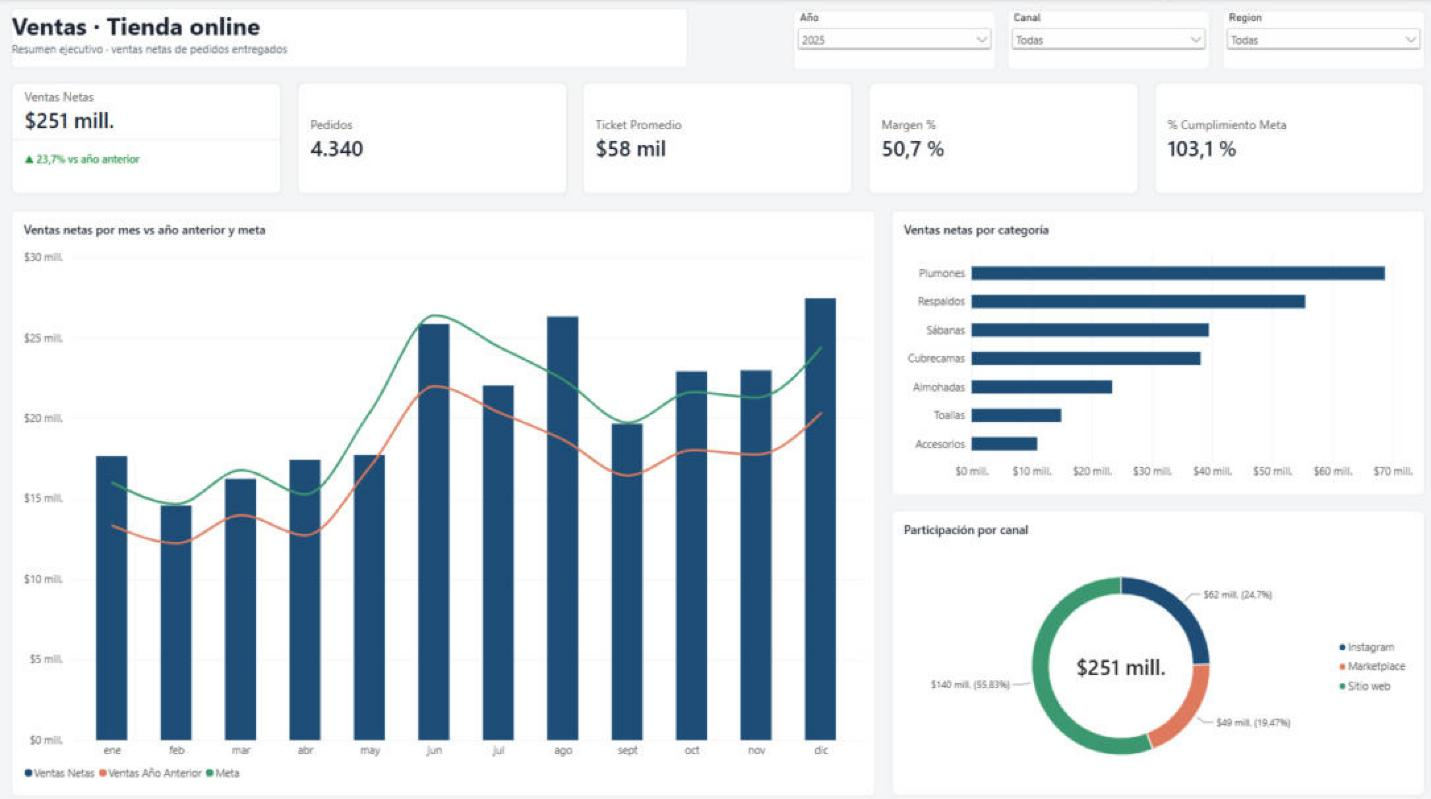

Layout of this report page (visuals, bound fields, positions):
{"tool":"powerbi","page":{"name":"Resumen","canvas":[1920,1080],"ordinal":0},"visuals":[{"type":"textbox","box":[20,12,900,80],"z":0},{"type":"slicer","fields":{"Values":["Calendario.Año"]},"box":[1060,15,270,80],"z":1000},{"type":"slicer","fields":{"Values":["Ventas.Canal"]},"box":[1345,15,270,80],"z":1001},{"type":"slicer","fields":{"Values":["Clientes.Region"]},"box":[1630,15,270,80],"z":1002},{"type":"cardVisual","fields":{"Data":["Medidas.Ventas Netas"]},"box":[20,110,360,150],"z":1003},{"type":"cardVisual","fields":{"Data":["Medidas.Pedidos (texto)"]},"box":[400,110,360,150],"z":1004},{"type":"cardVisual","fields":{"Data":["Medidas.Ticket Promedio"]},"box":[780,110,360,150],"z":1005},{"type":"cardVisual","fields":{"Data":["Medidas.Margen %"]},"box":[1160,110,360,150],"z":1006},{"type":"cardVisual","fields":{"Data":["Medidas.% Cumplimiento Meta"]},"box":[1540,110,360,150],"z":1007},{"type":"lineStackedColumnComboChart","title":"Ventas netas por mes vs año anterior y meta","fields":{"Category":["Calendario.Mes"],"Y":["Medidas.Ventas Netas"],"Y2":["Medidas.Ventas Año Anterior","Medidas.Meta"]},"box":[20,280,1150,780],"z":1008},{"type":"clusteredBarChart","title":"Ventas netas por categoría","fields":{"Category":["Productos.Categoria"],"Y":["Medidas.Ventas Netas"]},"box":[1190,280,710,380],"z":1009},{"type":"donutChart","title":"Participación por canal","fields":{"Category":["Ventas.Canal"],"Y":["Medidas.Ventas Netas"]},"box":[1190,680,710,380],"z":1010}]}

Visuals, with their boxes in screenshot pixels (x1, y1, x2, y2), scaled from the page's 1920x1080 canvas onto the 1431x799 screenshot:
textbox: bbox=(15, 9, 686, 68)
slicer - Calendario.Año: bbox=(790, 11, 991, 70)
slicer - Ventas.Canal: bbox=(1002, 11, 1204, 70)
slicer - Clientes.Region: bbox=(1215, 11, 1416, 70)
cardVisual - Medidas.Ventas Netas: bbox=(15, 81, 283, 192)
cardVisual - Medidas.Pedidos (texto): bbox=(298, 81, 566, 192)
cardVisual - Medidas.Ticket Promedio: bbox=(581, 81, 850, 192)
cardVisual - Medidas.Margen %: bbox=(865, 81, 1133, 192)
cardVisual - Medidas.% Cumplimiento Meta: bbox=(1148, 81, 1416, 192)
"Ventas netas por mes vs año anterior y meta" lineStackedColumnComboChart: bbox=(15, 207, 872, 784)
"Ventas netas por categoría" clusteredBarChart: bbox=(887, 207, 1416, 488)
"Participación por canal" donutChart: bbox=(887, 503, 1416, 784)
